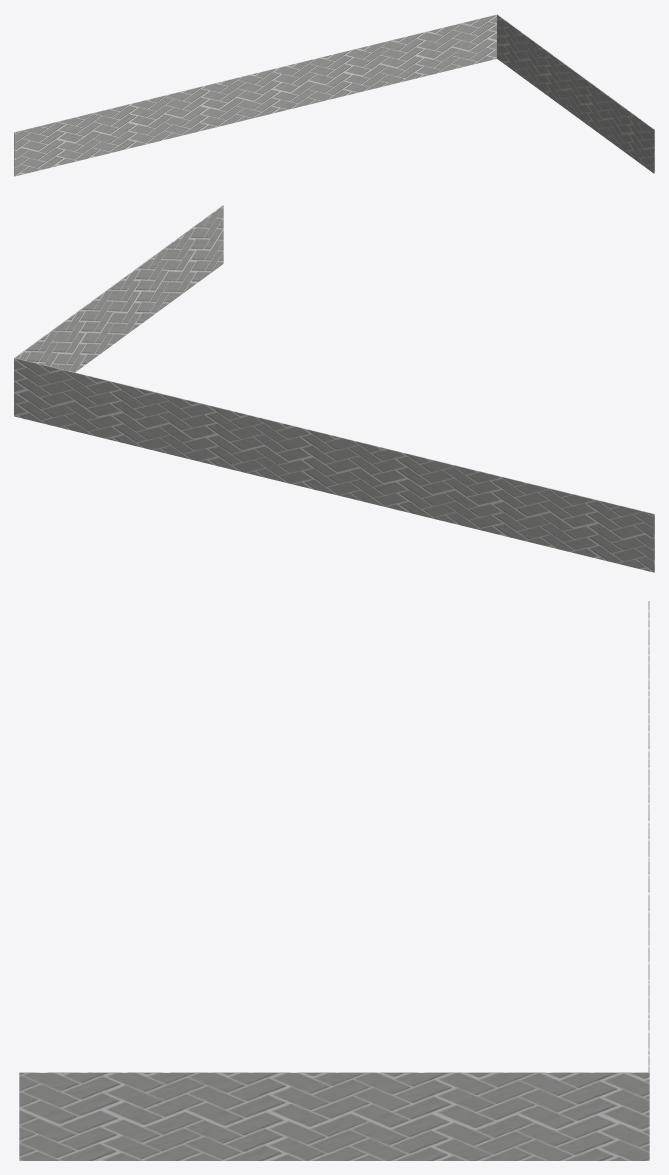
File: 1989_kitchen_BP_Artezen_IdealGrayHerringbone.gltf
3 views of the same model, one above another, from view 1: azimuth 30°, elevation 25°; view 2: azimuth 150°, elevation 25°; view 3: azimuth 270°, elevation 25° (orthographic). The views are drawn at different scales.
Parts seen in each view (by area): view 1: BKSPLASH_artezen_ideal_gray_herringbone; view 2: BKSPLASH_artezen_ideal_gray_herringbone; view 3: BKSPLASH_artezen_ideal_gray_herringbone.
Boxes of the visible parts, bbox=[...] form: BKSPLASH_artezen_ideal_gray_herringbone: bbox=[14, 14, 654, 176]; BKSPLASH_artezen_ideal_gray_herringbone: bbox=[14, 205, 654, 572]; BKSPLASH_artezen_ideal_gray_herringbone: bbox=[19, 601, 649, 1160].
Size of the model in its own units: 7.1 by 0.6175 by 4.01.
Materials: 1 (1 with a texture image).
